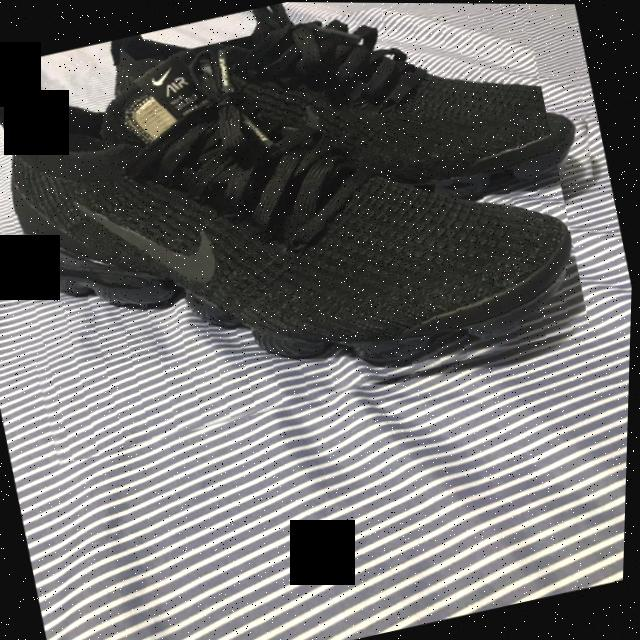shoe: (0, 0, 603, 472), (101, 1, 613, 276)
